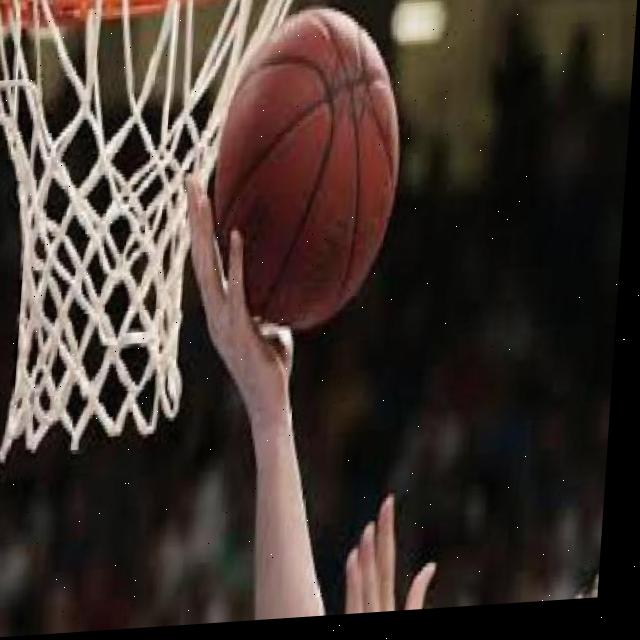basketball: (207, 3, 412, 340)
hoop: (0, 0, 306, 465)
